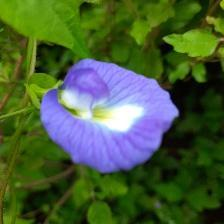shankupushpam: (40, 55, 186, 178)
